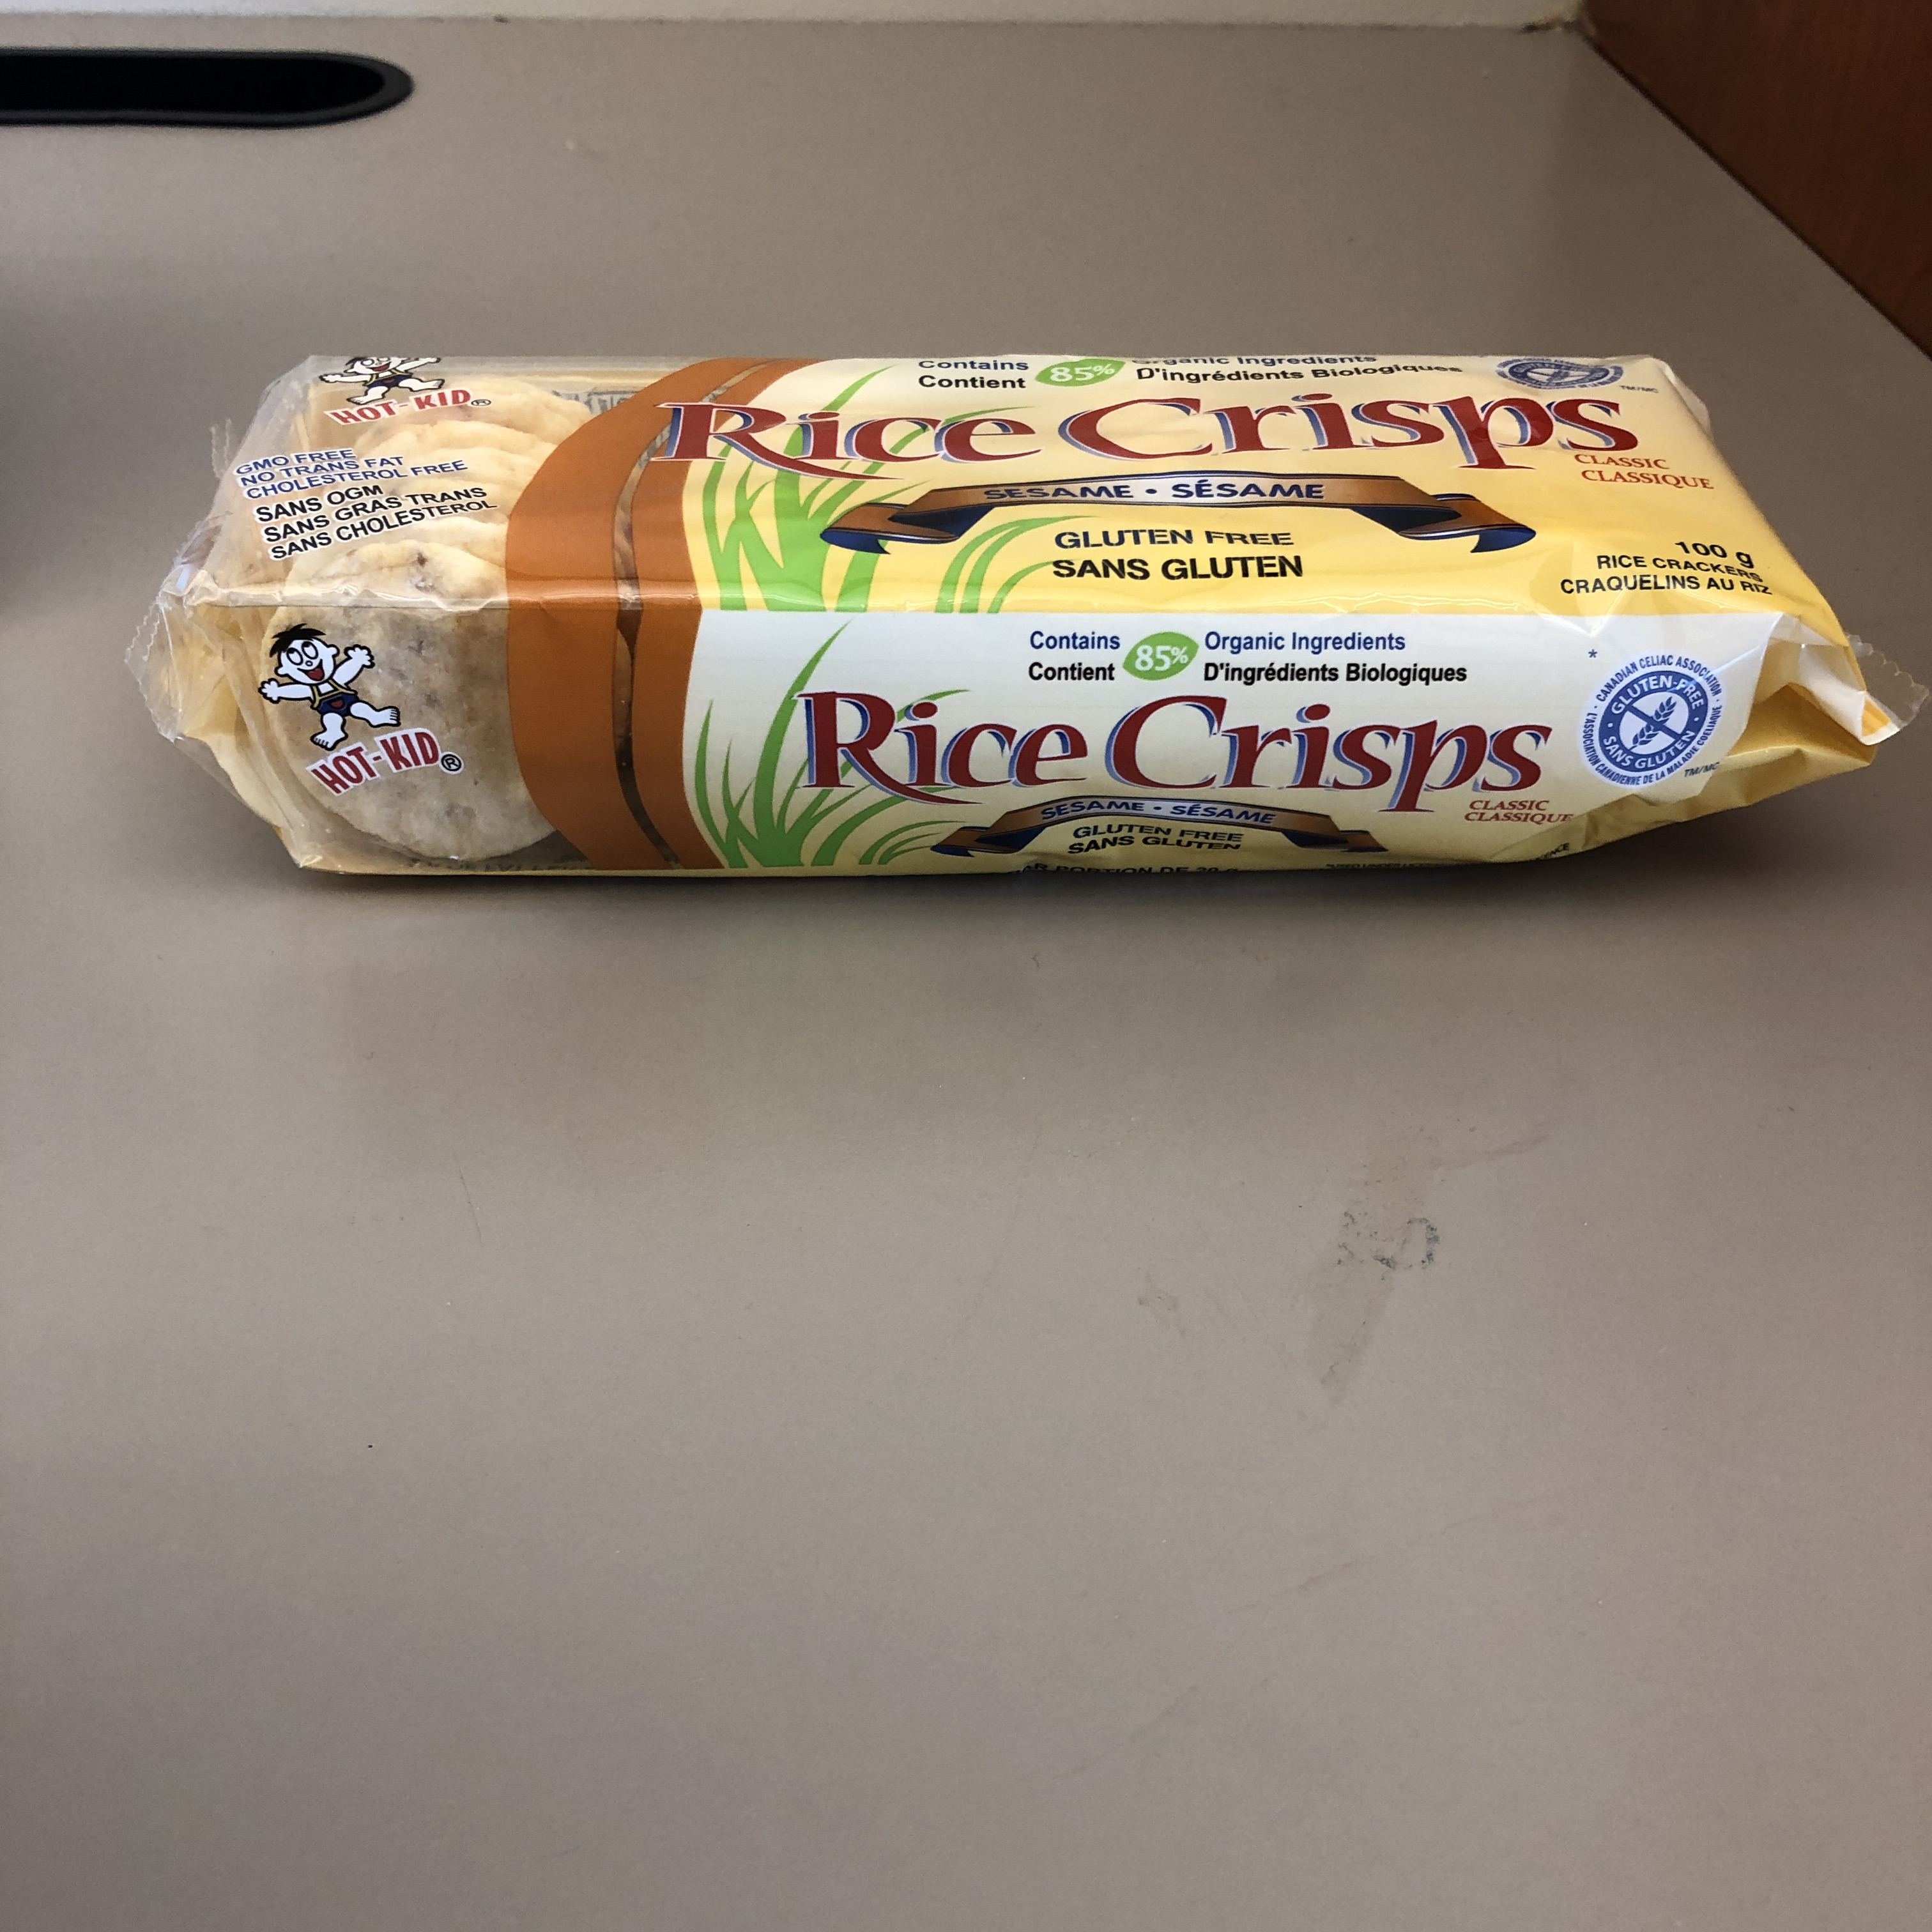hot_kid_rice_crisps_sesame: (349, 195, 877, 1759)
